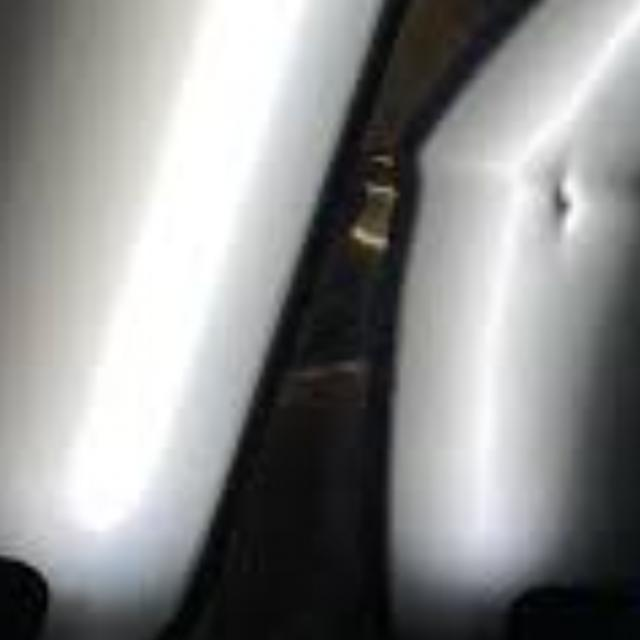dents: (529, 160, 620, 268)
